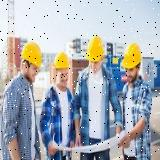Helmet: (20, 40, 43, 68), (120, 42, 142, 69), (86, 34, 105, 62), (53, 51, 71, 72)
